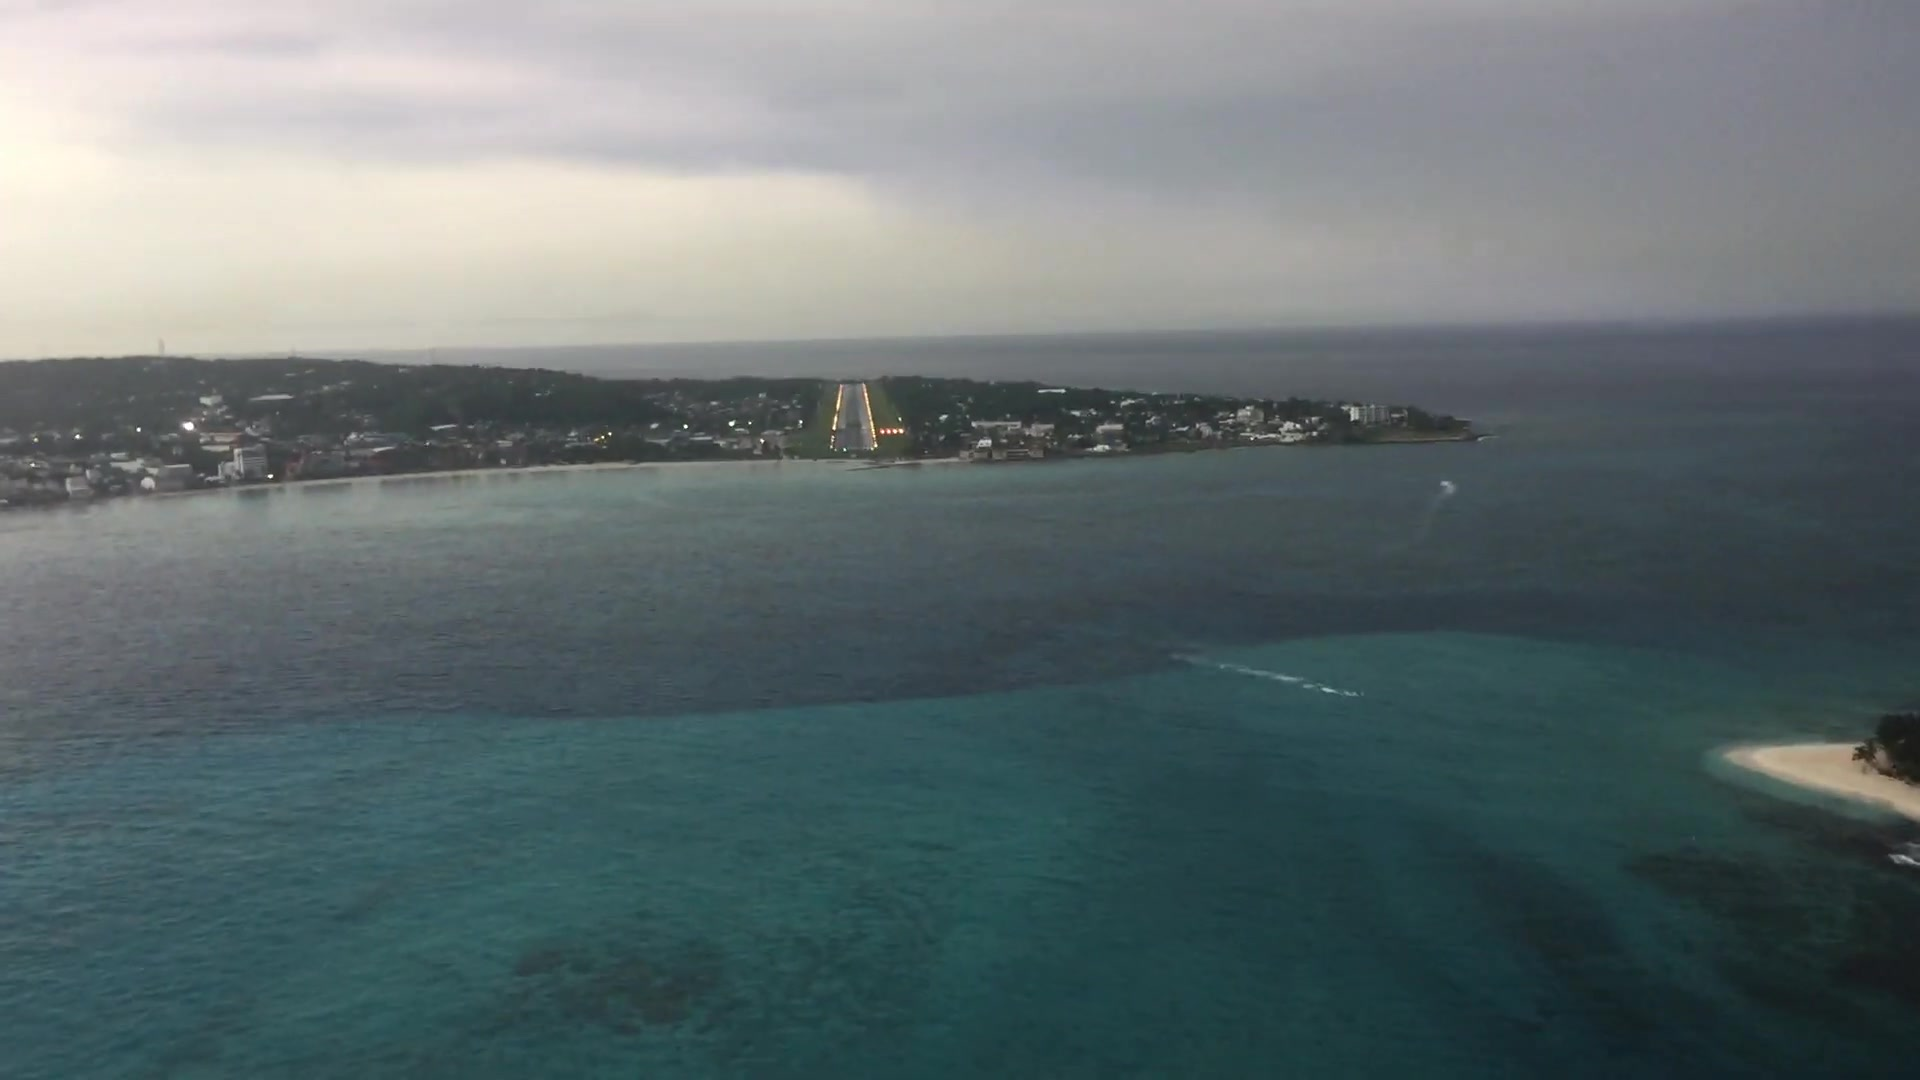runway: (829, 382, 880, 454)
